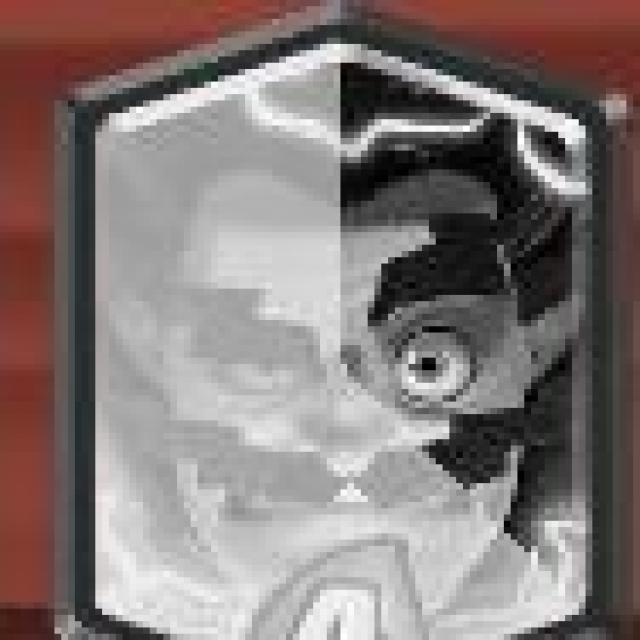Electro_Wizard: (68, 9, 608, 640)
